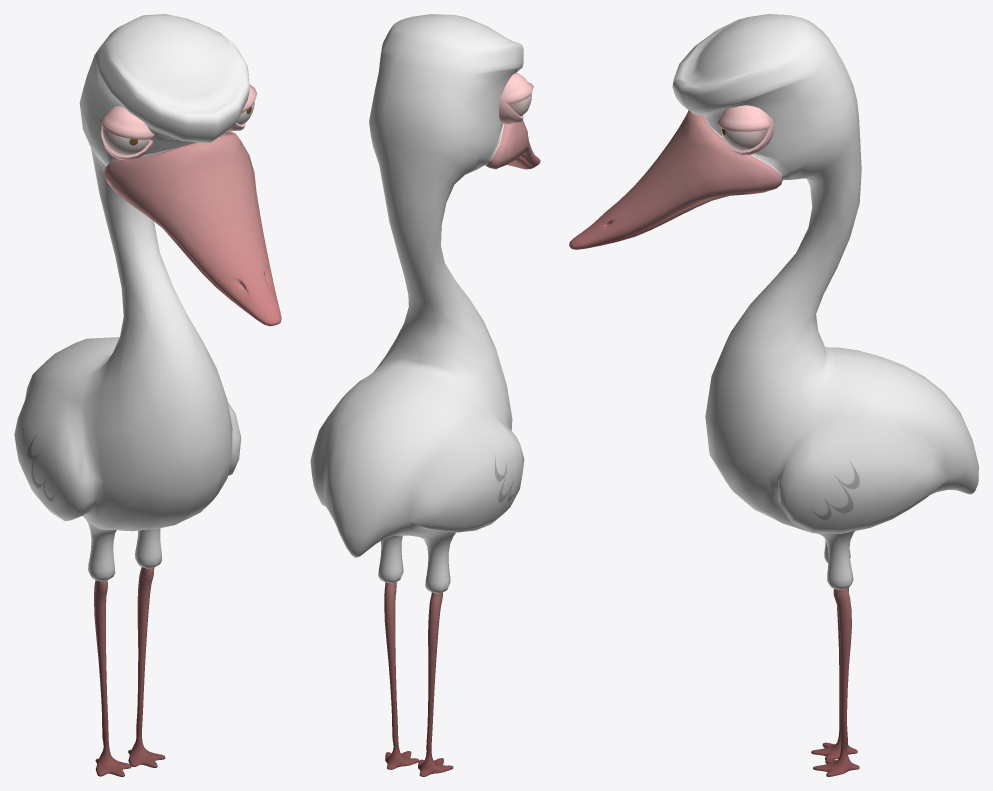
File: Duck.glb
3 views of the same model, side by side, from view 1: azimuth 30°, elevation 25°; view 2: azimuth 150°, elevation 25°; view 3: azimuth 270°, elevation 25° (orthographic). The views are drawn at different scales.
Visible parts, largest first — view 1: Box001; view 2: Box001; view 3: Box001.
Boxes of the visible parts, left/top/right/bottom form: Box001: left=14, top=14, right=281, bottom=776; Box001: left=310, top=14, right=540, bottom=776; Box001: left=569, top=14, right=978, bottom=776.
Size of the model in its own units: 0.9783 by 3.77 by 1.89.
6 materials, 4 textured.
